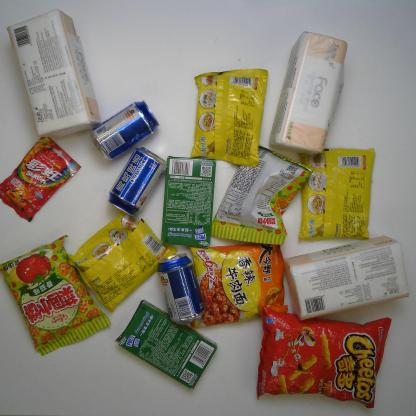Alcohol: (90, 100, 160, 160), (108, 146, 167, 216), (157, 253, 206, 325)
Candy: (0, 137, 81, 222)
Dessert: (114, 299, 217, 390), (160, 154, 216, 249)
Instant Noodles: (65, 210, 178, 313), (189, 243, 289, 329), (190, 68, 268, 168), (298, 147, 376, 243)
Puffed Food: (256, 306, 392, 408), (0, 235, 111, 358), (210, 144, 314, 246)
Tissue: (6, 8, 102, 139), (283, 235, 410, 321), (269, 31, 348, 156)
